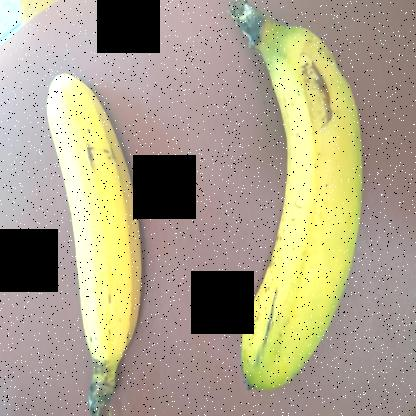freshripe: (38, 67, 168, 414)
ripe: (209, 34, 374, 396)
